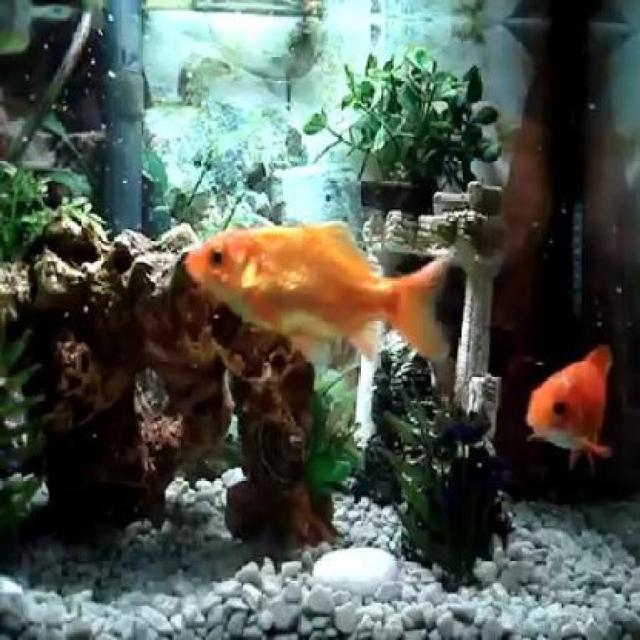GoldFish: (178, 220, 450, 362), (524, 344, 618, 458)
